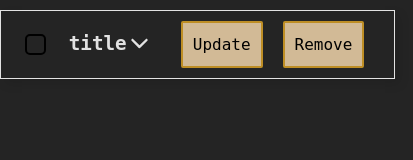
it: note-item › should show/hide description when arrow is clicked
The image size is (413, 160).
Click the element with test id "arrow-button".
click(139, 44)  # box [127,31,152,56]
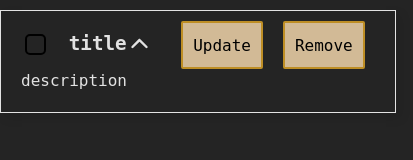
Expected: the text "description" is shown, [21,69,127,93]
Click the element with test id "arrow-button".
click(140, 44)  # box [127,31,152,56]
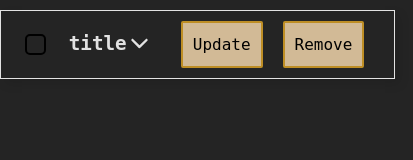
Expected: the text "description" is gone
